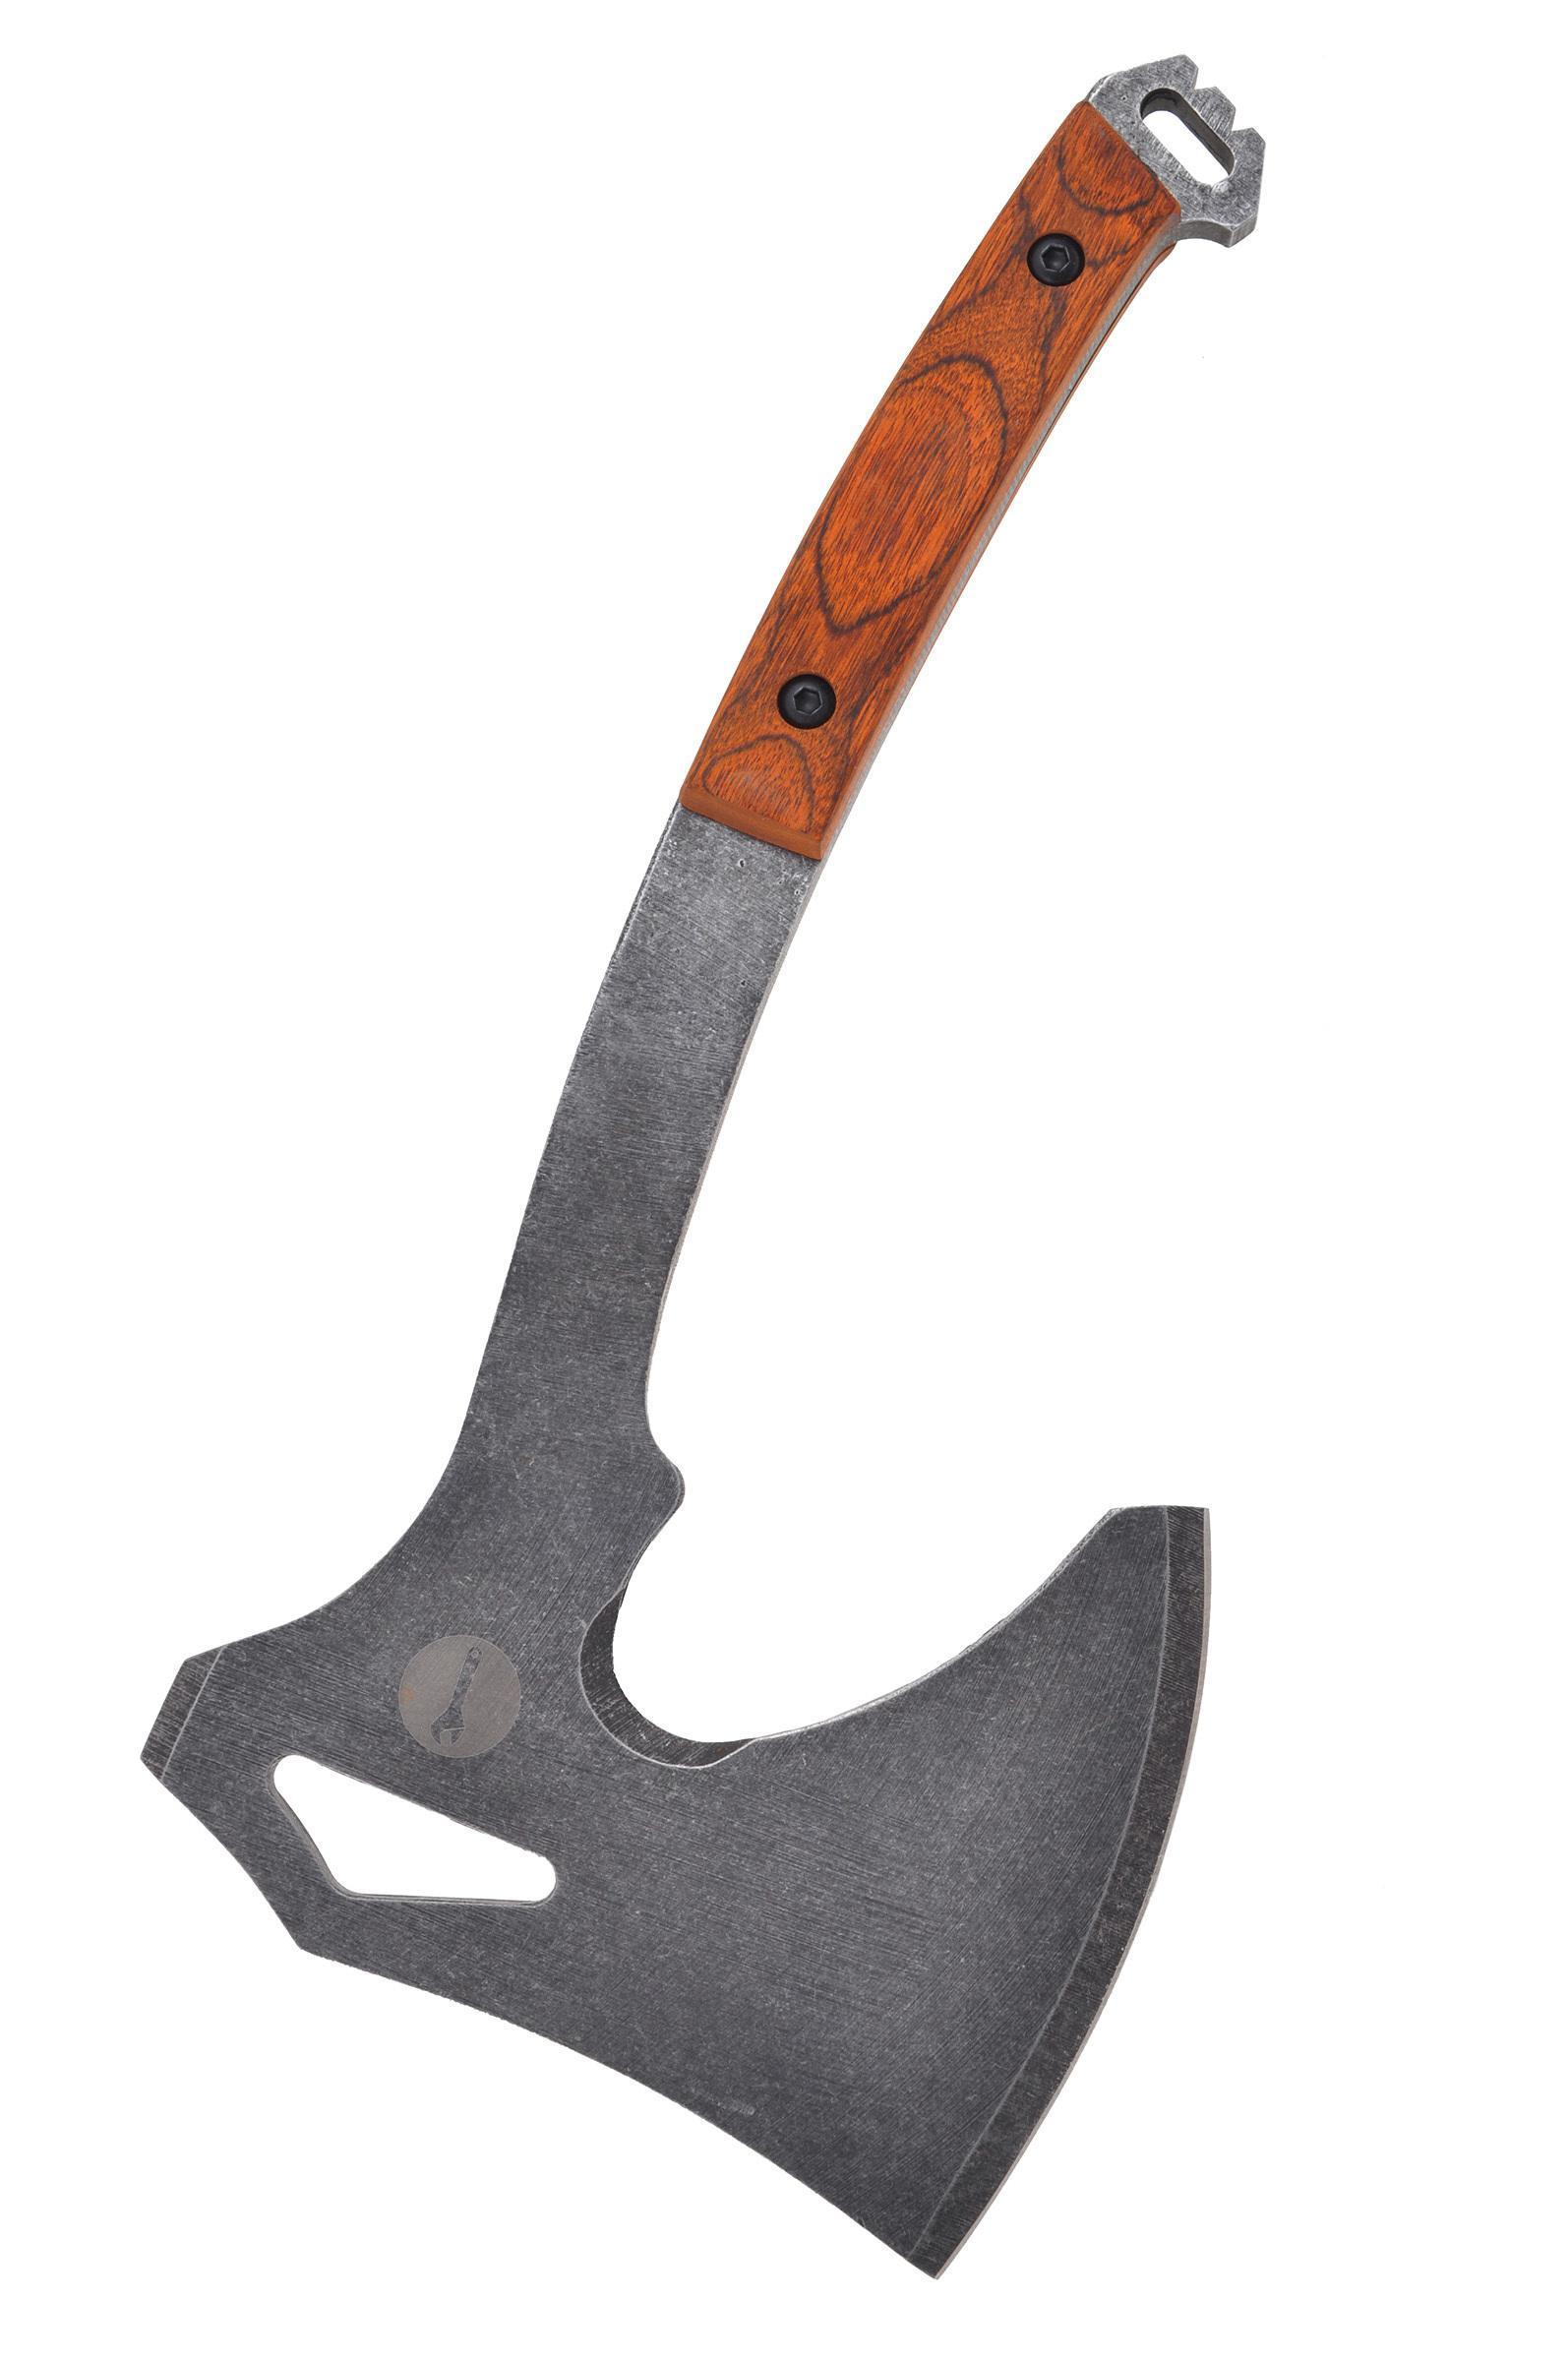machado: (143, 60, 1262, 2273)
